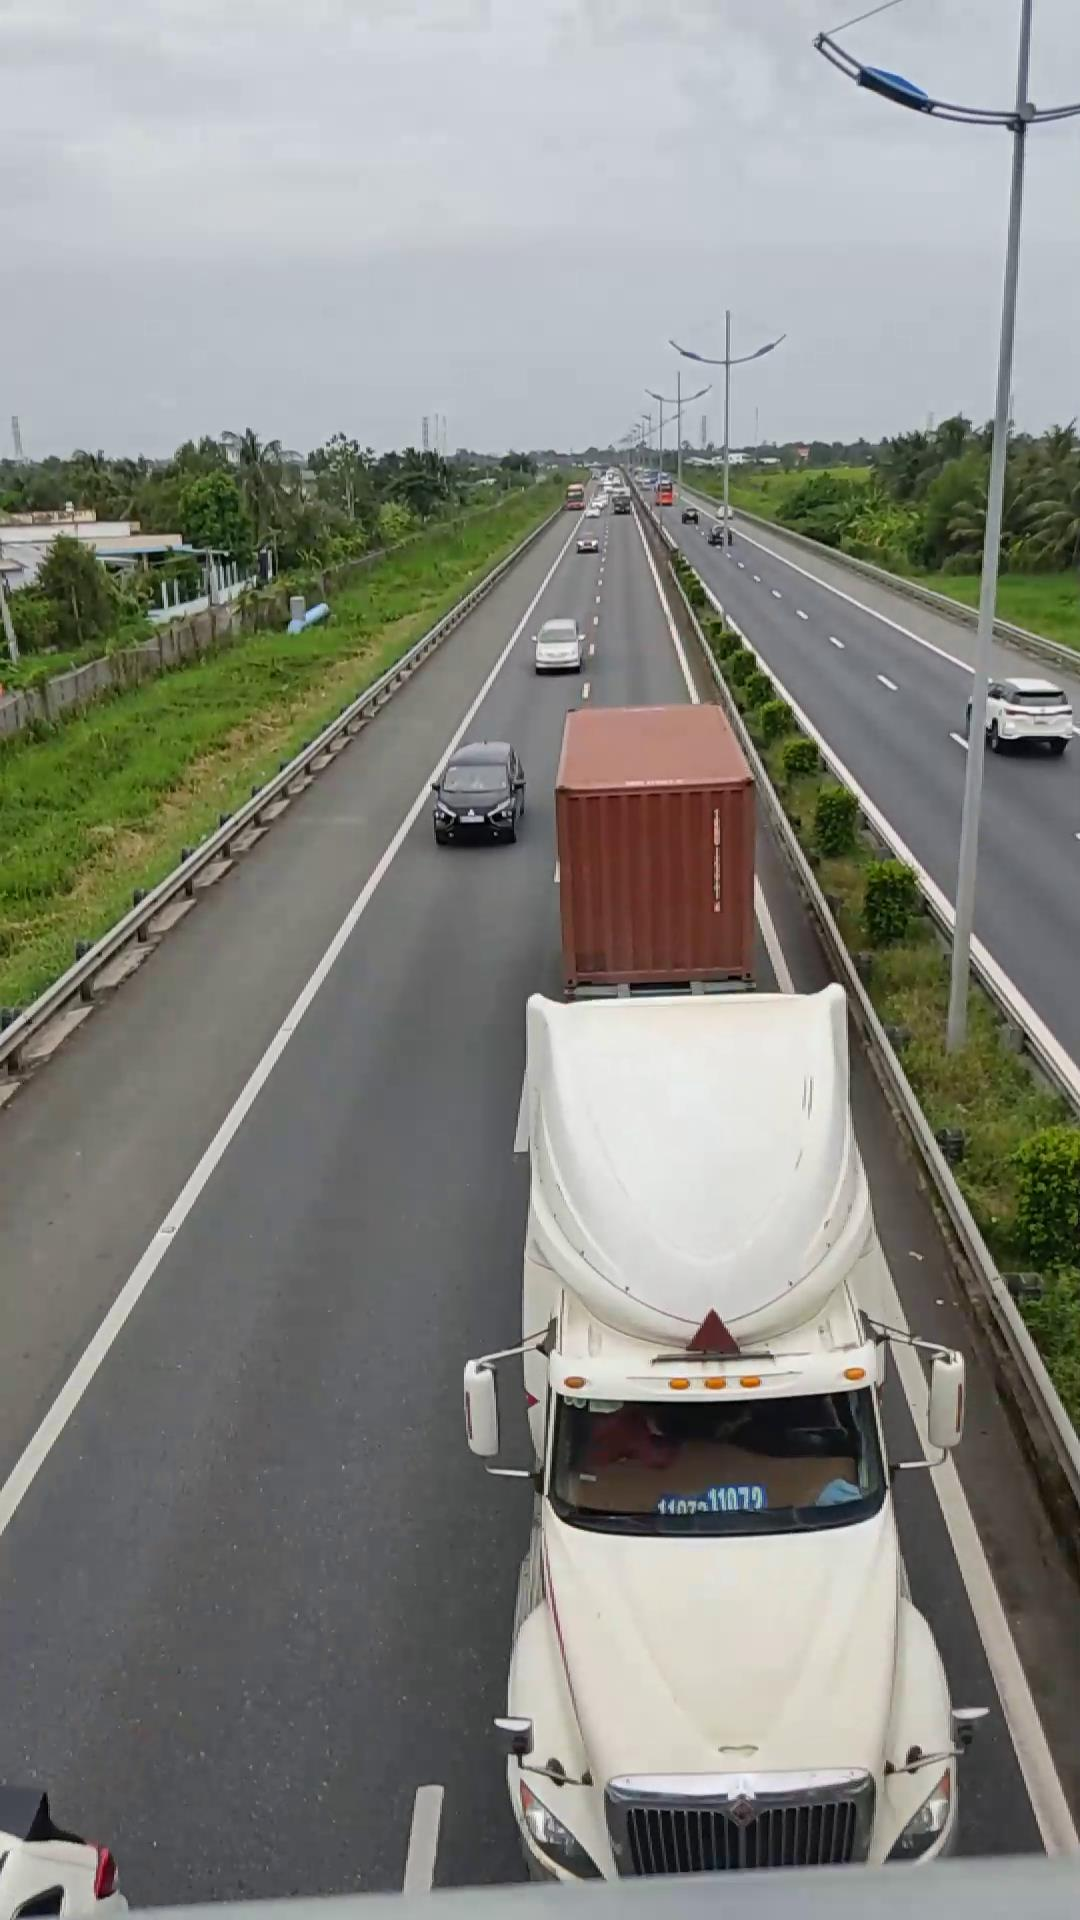car: (481, 700, 972, 1874), (430, 738, 530, 844), (975, 673, 1077, 753)
